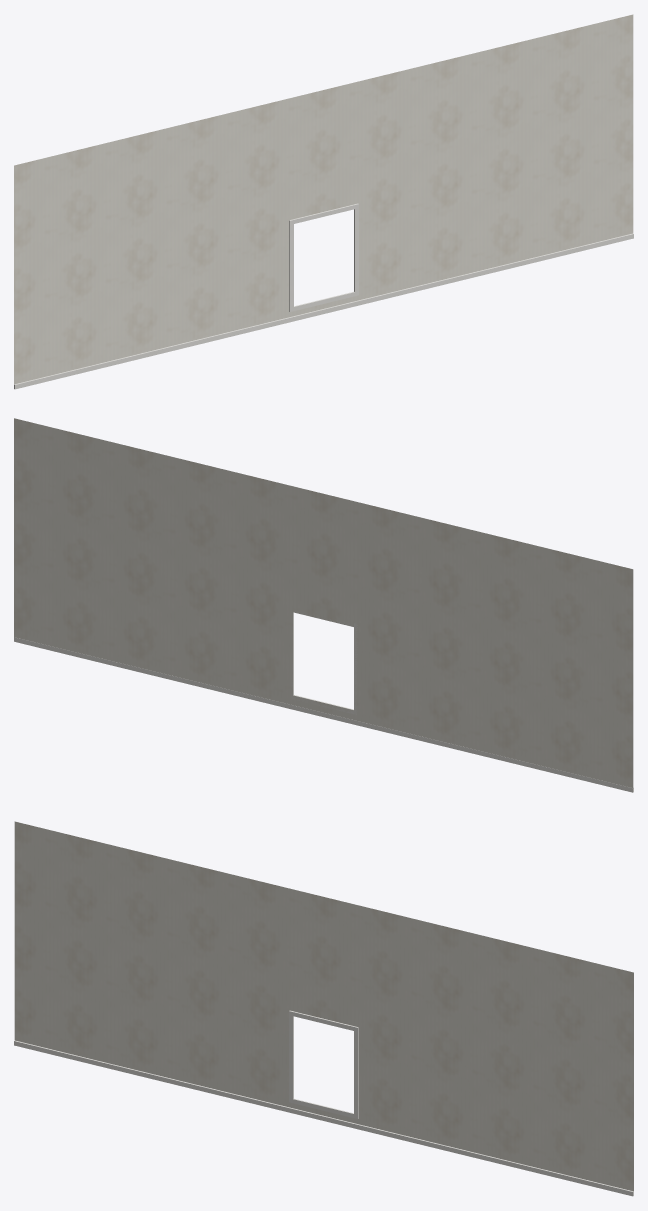
The picture shows the model from 3 angles, top to bottom: view 1: azimuth 30°, elevation 25°; view 2: azimuth 150°, elevation 25°; view 3: azimuth 330°, elevation 25°; orthographic projection.
Visible parts, largest first — view 1: jx_wm_20_ba99ea50; view 2: jx_wm_20_ba99ea50; view 3: jx_wm_20_ba99ea50.
Boxes of the visible parts, x1,y1,x2,y2 form: jx_wm_20_ba99ea50: (14,14,633,389); jx_wm_20_ba99ea50: (14,418,633,792); jx_wm_20_ba99ea50: (14,821,633,1196).
Size of the model in its own units: 20.3 by 7 by 0.05.
2 materials, 2 textured.
